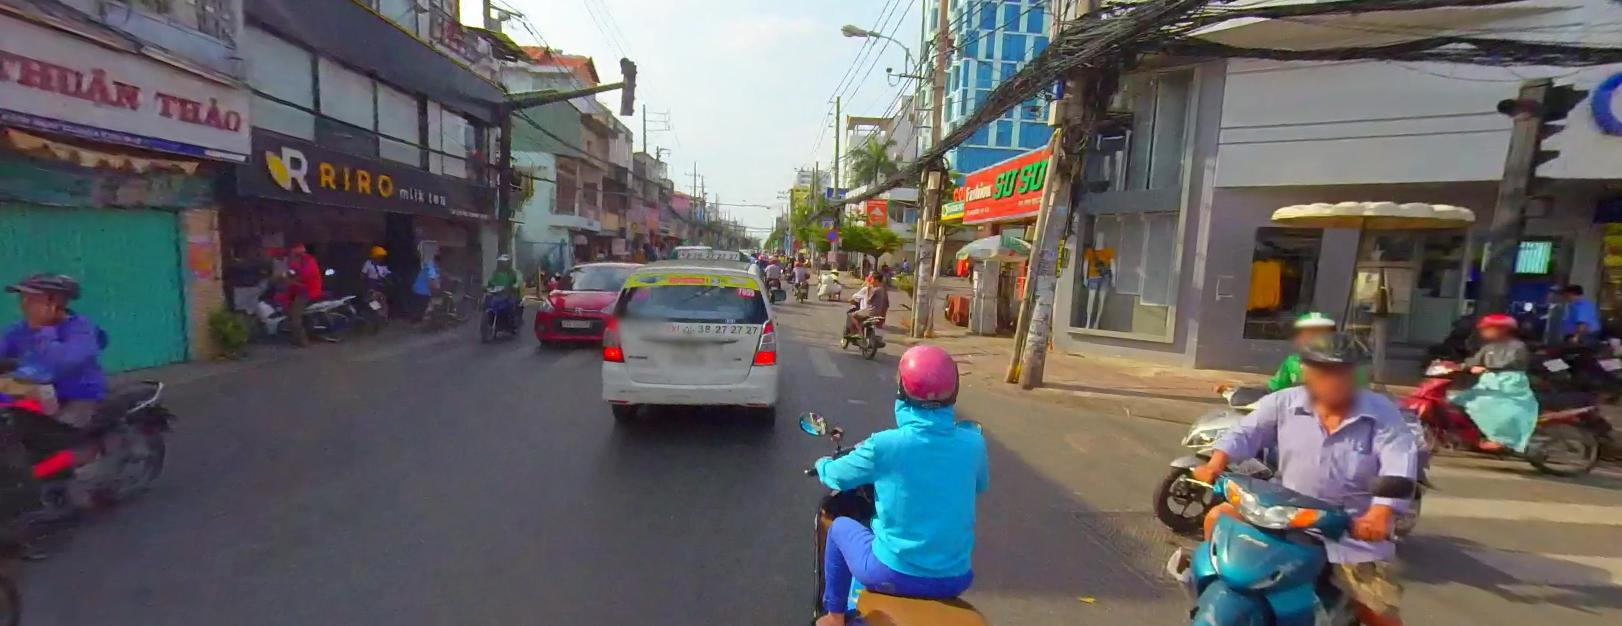Cam dung va do: (824, 227, 837, 240)
